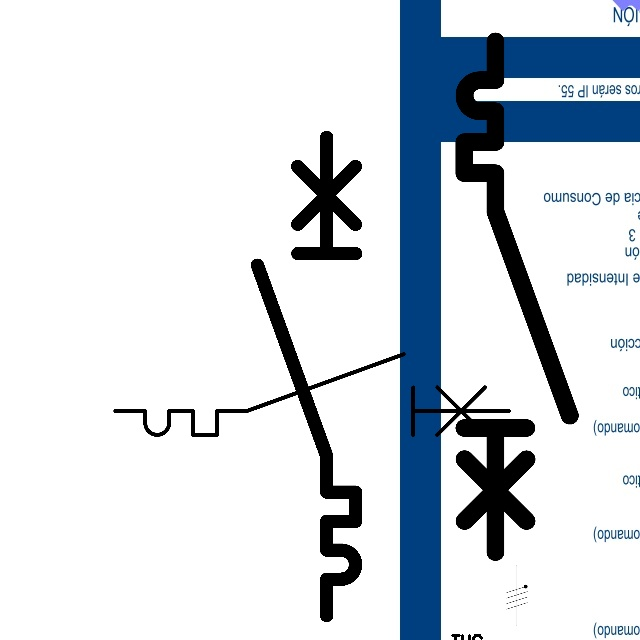interruptor_termomagnetico: (451, 28, 582, 565), (245, 125, 368, 628), (105, 344, 519, 445)
